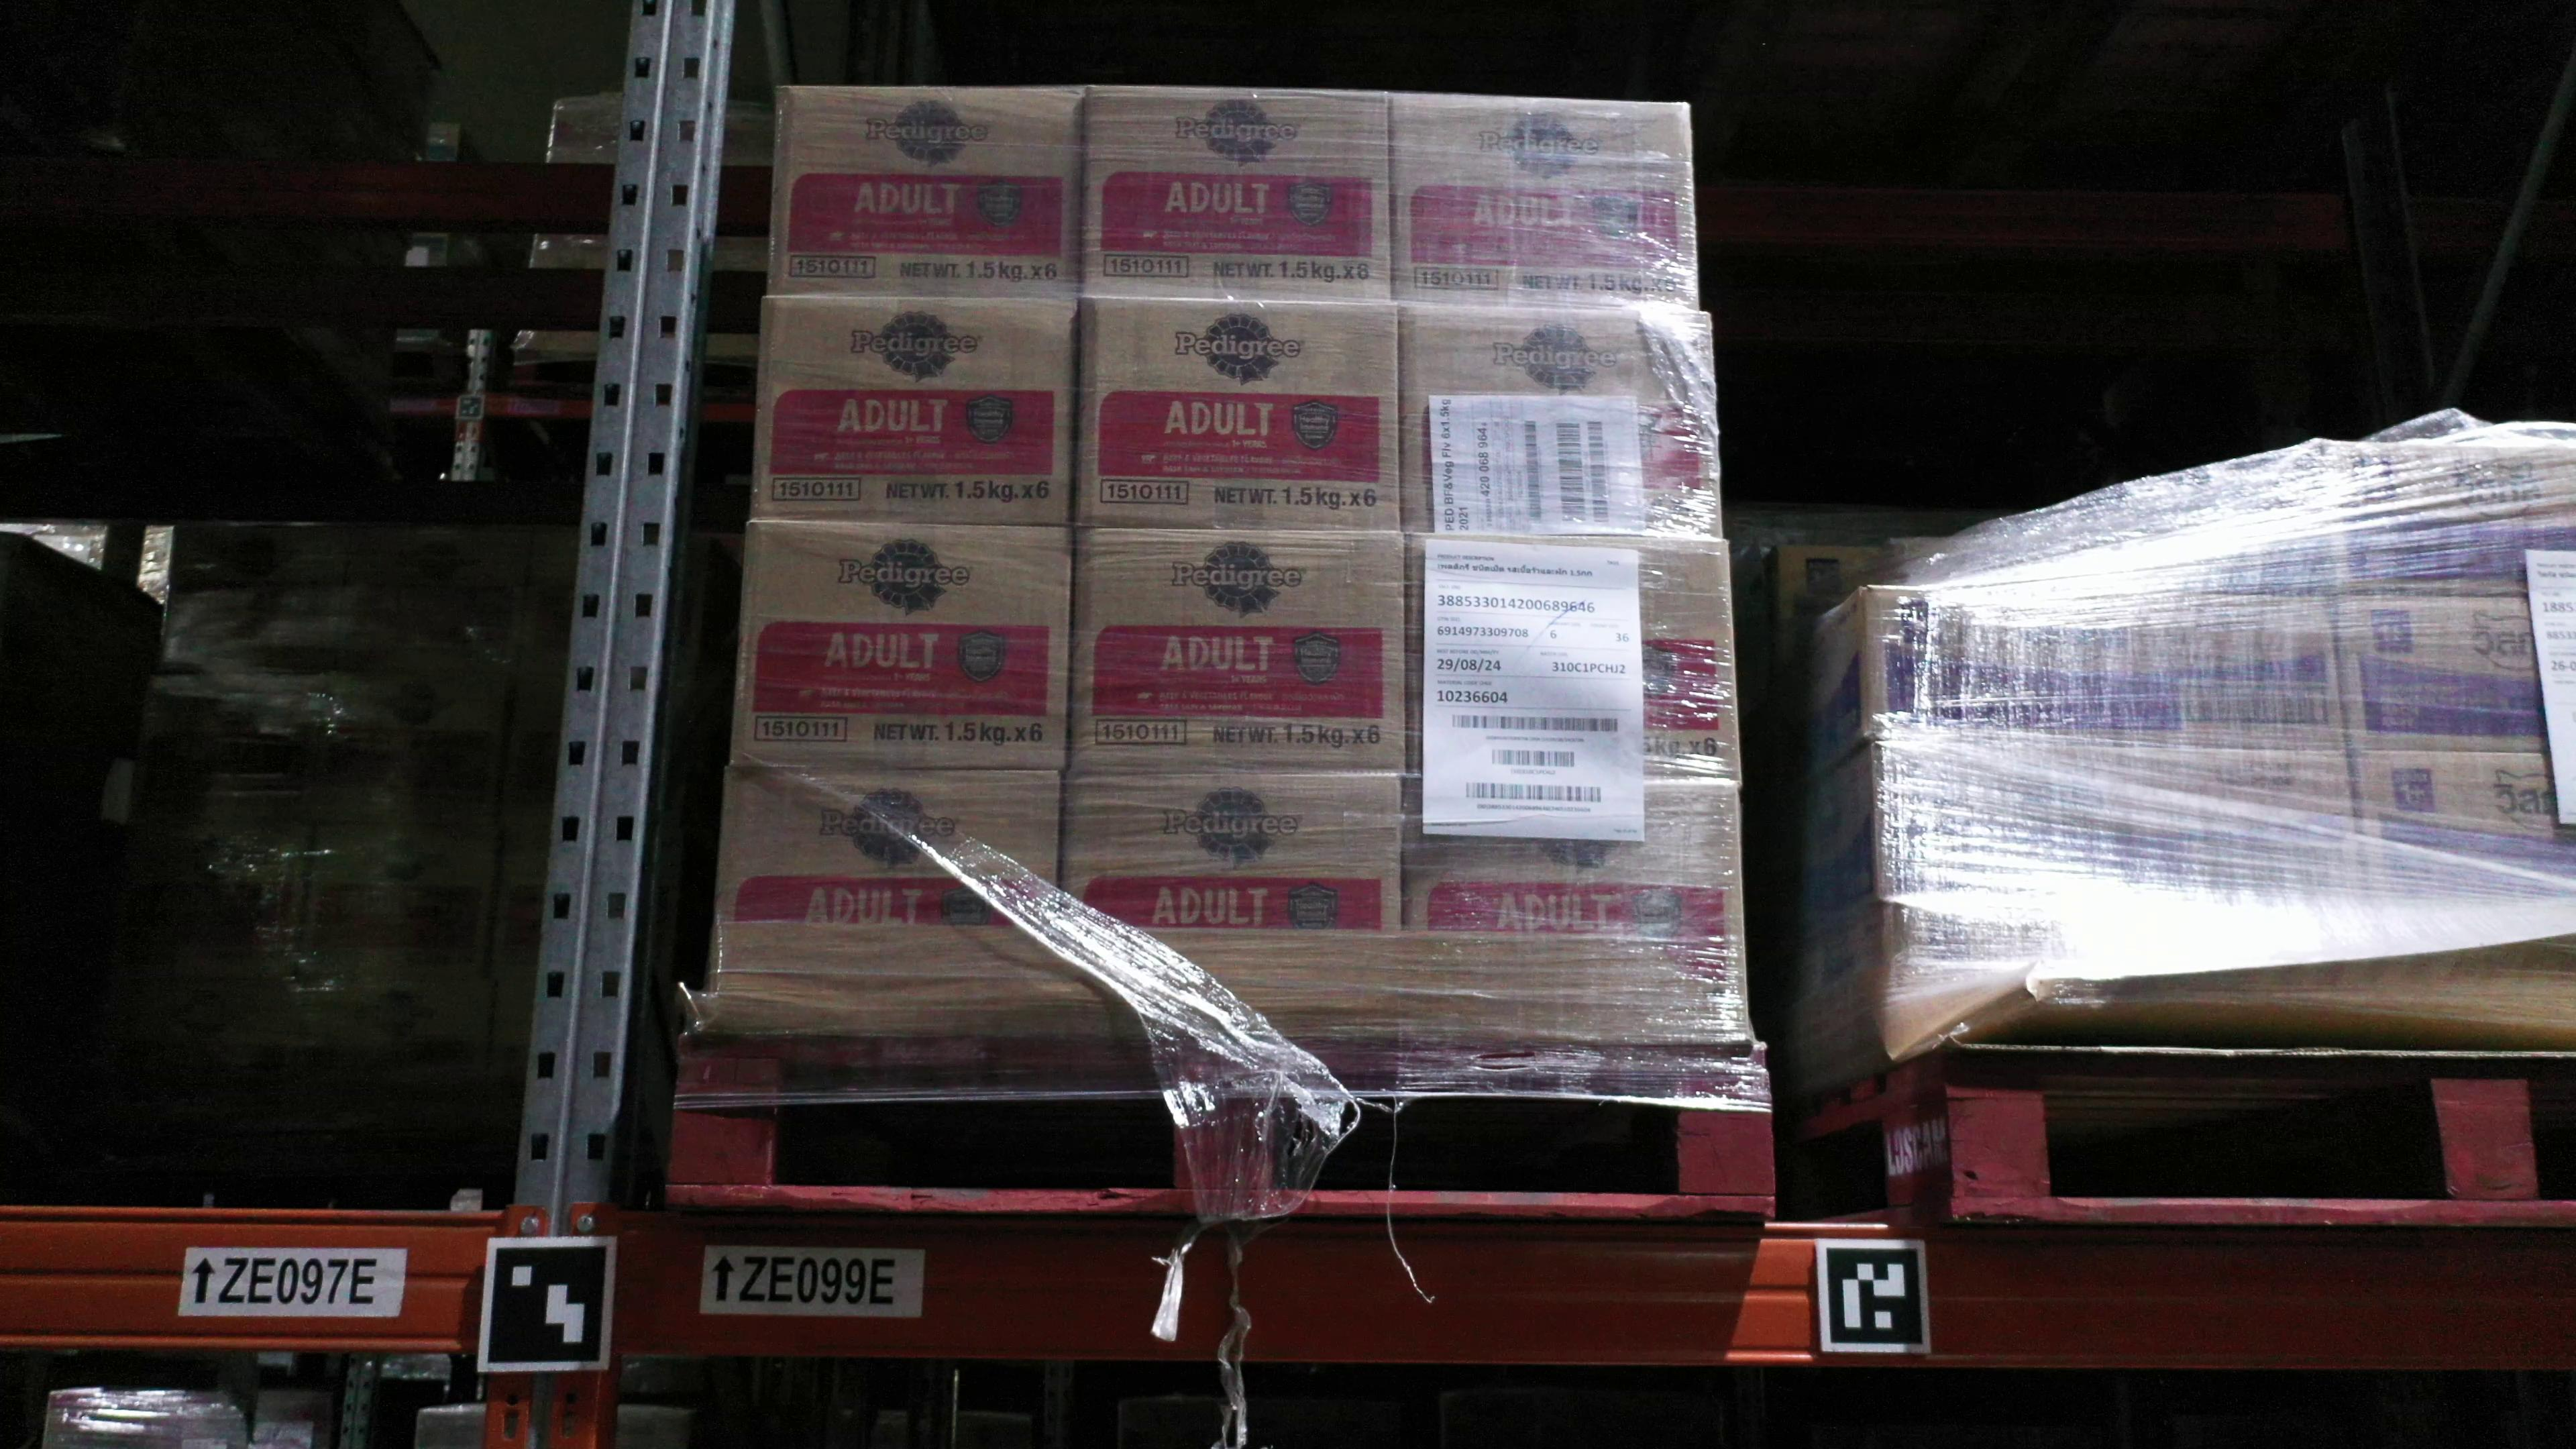-: (1405, 773, 1753, 1031), (727, 517, 1070, 771), (1407, 533, 1743, 782), (1069, 533, 1407, 778), (1865, 586, 2348, 755), (1881, 740, 2367, 904), (1398, 299, 1727, 540), (748, 290, 1079, 527), (1076, 295, 1401, 533), (1391, 92, 1700, 311), (1079, 87, 1391, 304), (770, 83, 1083, 299), (1056, 770, 1408, 934), (713, 768, 1062, 925), (2316, 435, 2576, 593), (2337, 593, 2576, 757), (2350, 754, 2576, 909), (1888, 897, 2381, 957)
box: (295, 823, 499, 984), (96, 978, 303, 1132), (110, 823, 311, 980), (156, 522, 354, 678), (288, 977, 490, 1129), (311, 674, 510, 828), (331, 525, 533, 676), (131, 678, 329, 828), (515, 529, 580, 681), (499, 678, 564, 830), (487, 828, 550, 984), (485, 985, 536, 1127)
